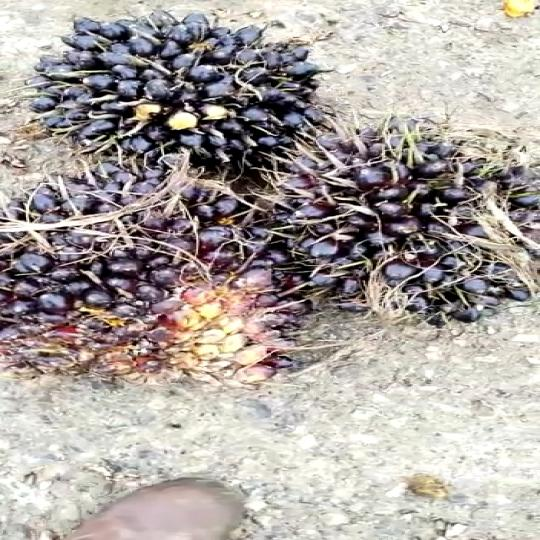mentah: (0, 179, 300, 416), (250, 127, 540, 324), (32, 16, 339, 179)
